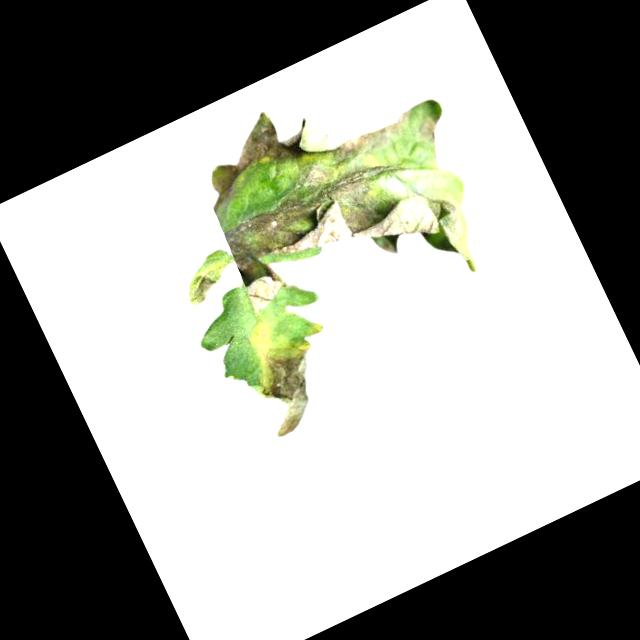Late_blight: (212, 134, 415, 301), (186, 94, 326, 208), (236, 331, 339, 441), (320, 98, 416, 167), (234, 252, 290, 310), (179, 265, 225, 308), (412, 109, 446, 143)
